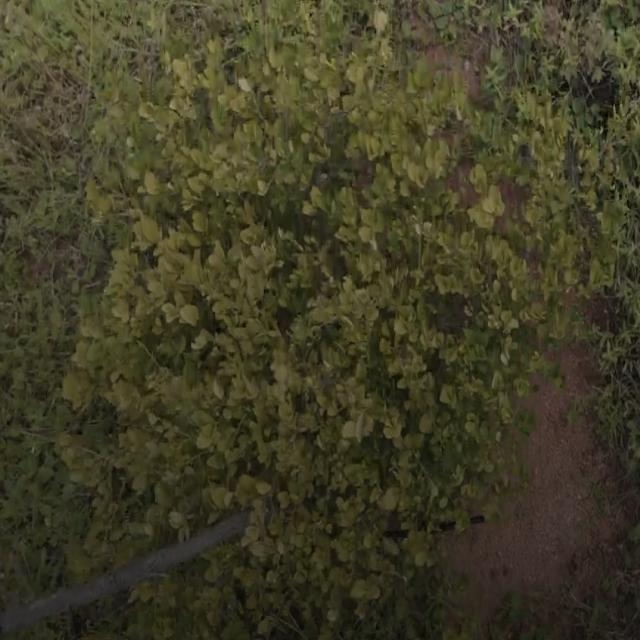notMangoTree: (64, 15, 550, 640)
